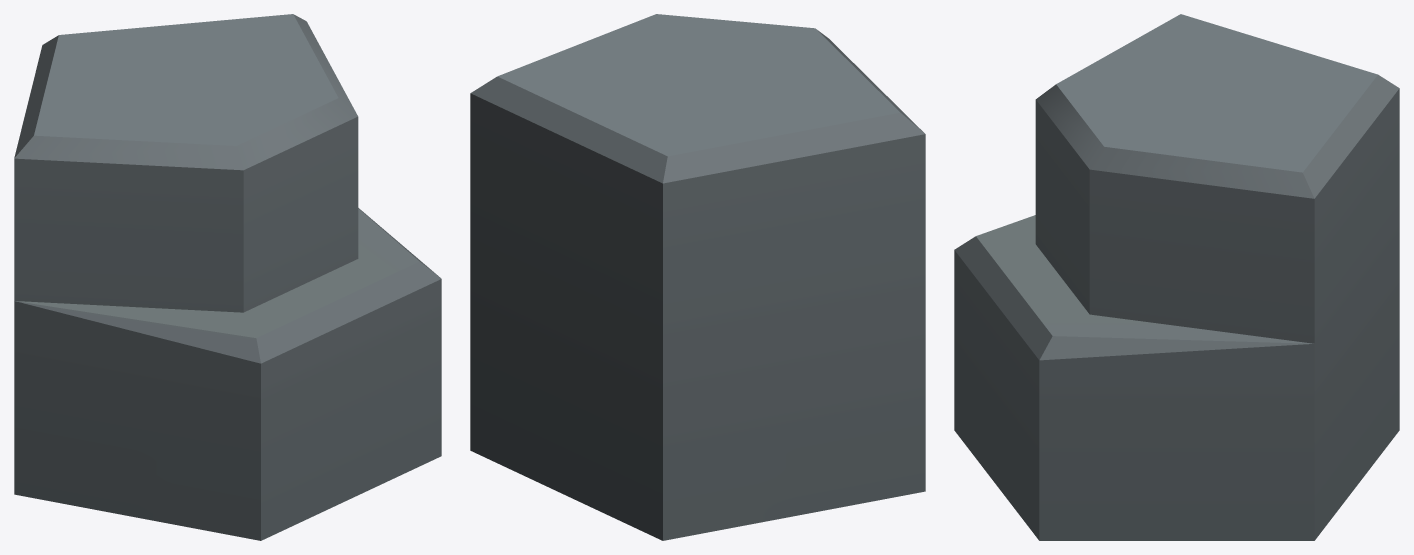
The model's file is Rock_1_A_Color1.gltf.
3 views of the same model, side by side, from view 1: azimuth 30°, elevation 25°; view 2: azimuth 150°, elevation 25°; view 3: azimuth 270°, elevation 25° (orthographic). The views are drawn at different scales.
Visible parts, largest first — view 1: Rock_1_A_Color1; view 2: Rock_1_A_Color1; view 3: Rock_1_A_Color1.
Part boxes in pixels (<box>): Rock_1_A_Color1: <box>14,14,441,540</box>; Rock_1_A_Color1: <box>470,14,925,540</box>; Rock_1_A_Color1: <box>954,14,1399,540</box>.
Bounding box in the file's own units: 0.578 × 0.5403 × 0.6078.
Materials: 1 (1 with a texture image).
